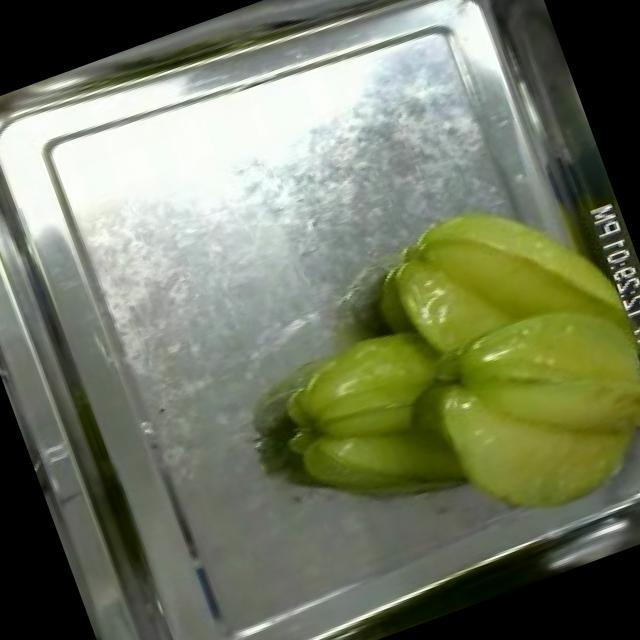fruit: (365, 159, 640, 552), (246, 303, 502, 562)
